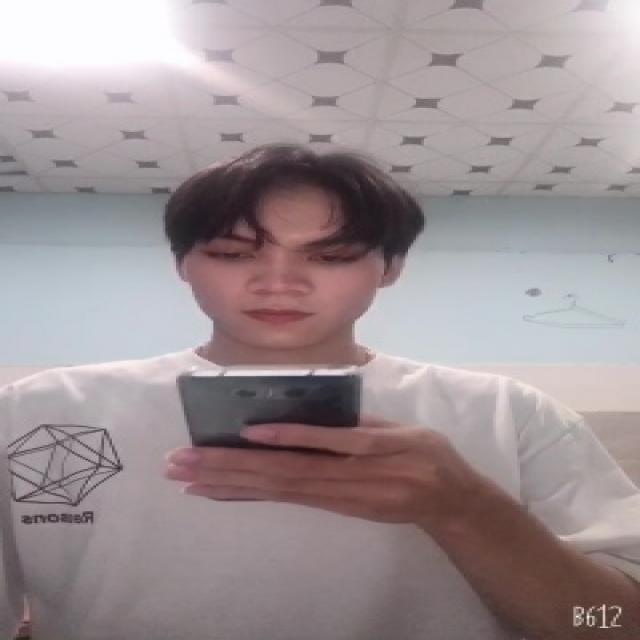Phone: (174, 366, 368, 464)
